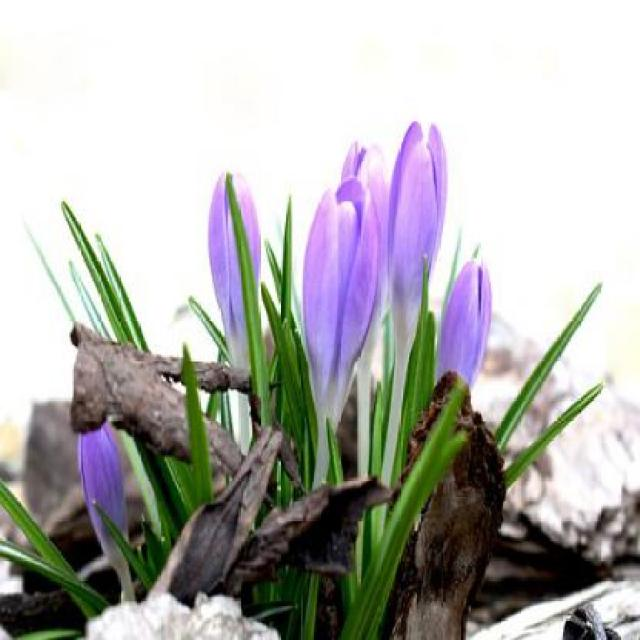Flower: (377, 115, 457, 352), (306, 173, 376, 433), (198, 152, 270, 386), (58, 374, 139, 572), (431, 242, 512, 438), (339, 132, 388, 377)
